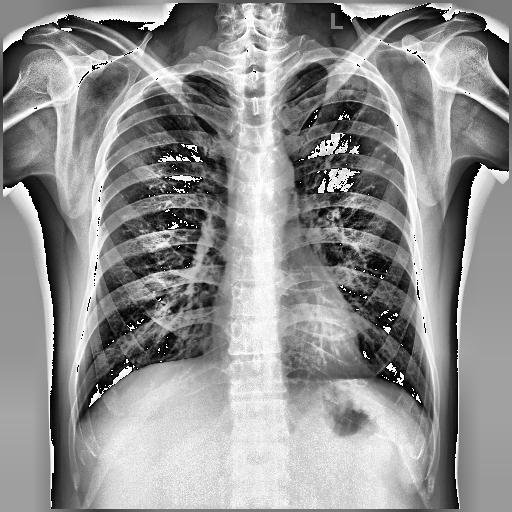11- Pleural thickening: (332, 56, 382, 91), (158, 66, 227, 86)
13- Pulmonary fibrosis: (114, 88, 220, 225), (294, 92, 396, 222), (117, 87, 197, 223), (321, 63, 399, 195), (344, 72, 396, 174), (116, 169, 171, 219), (163, 84, 198, 120)
2- Calcification: (114, 88, 220, 225), (294, 92, 396, 222)
